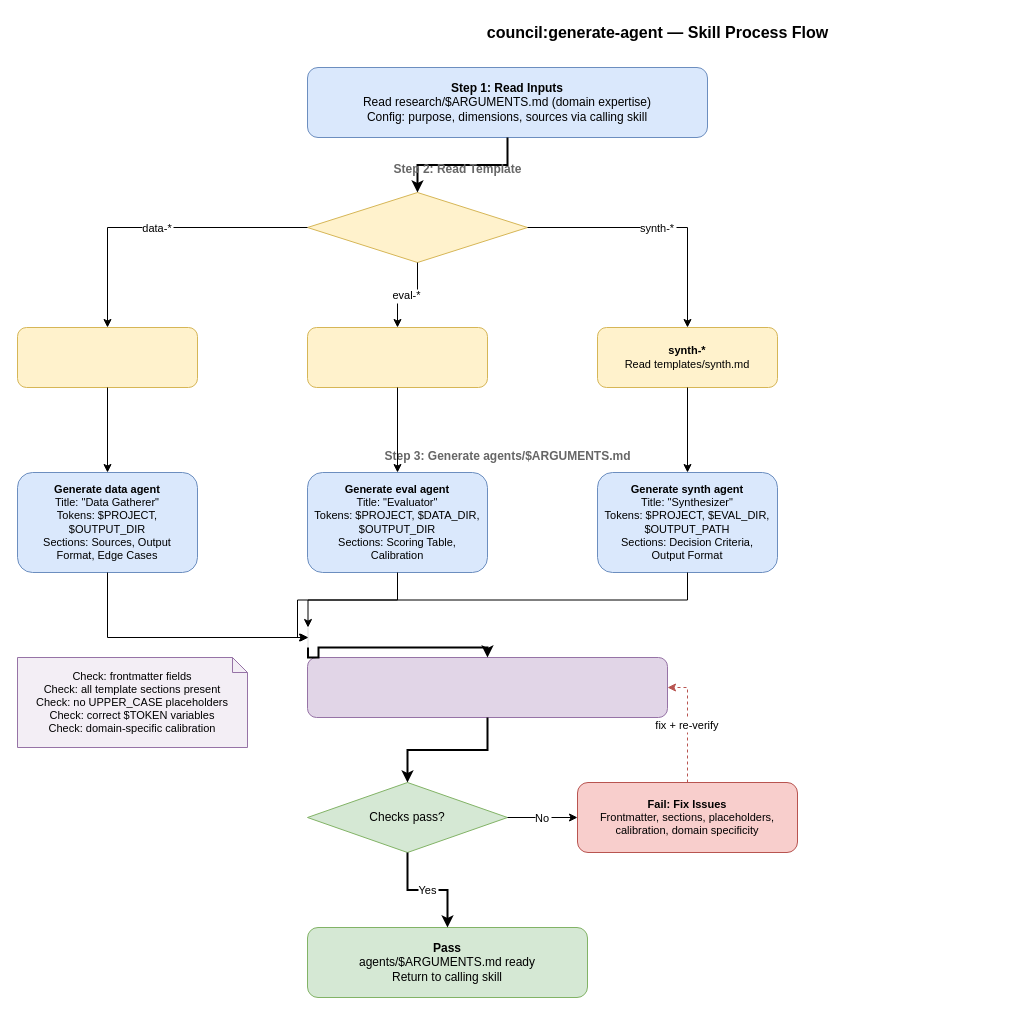
This 1025x1015 diagram has some shape labels left out. The centre of each missing label's shape, as x and y in pixels:
"Agent type from $ARGUMENTS prefix?" goes at point (417, 227).
"data-* Read templates/data.md" goes at point (107, 357).
"eval-* Read templates/eval.md" goes at point (397, 357).
"Step 4: Verify Read back agents/$ARGUMENTS.md" goes at point (487, 687).
